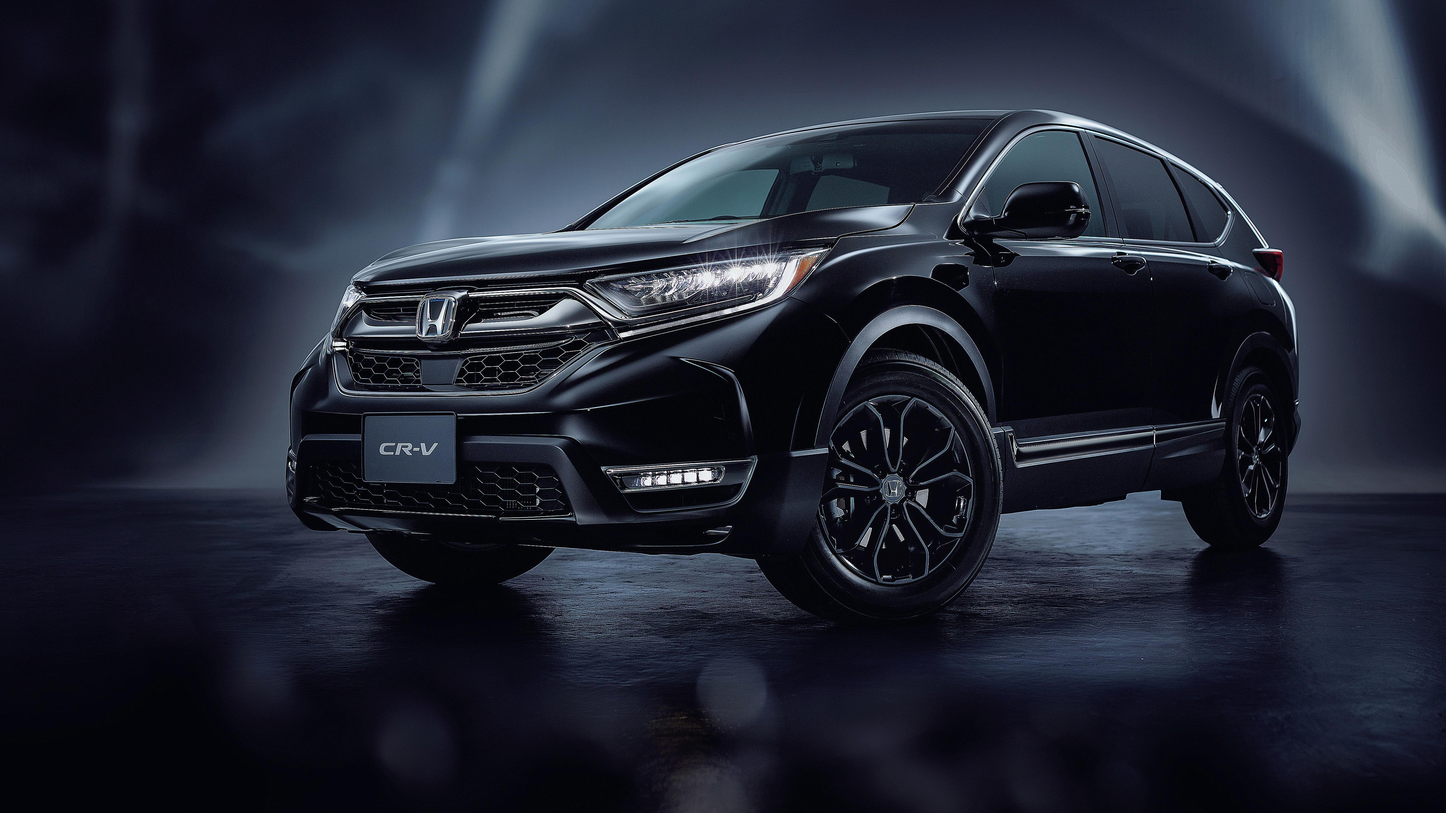Car hood: (349, 201, 929, 282)
Fender - -F-L-: (814, 202, 1003, 451)
Fender - -F-R-: (1215, 246, 1300, 441)
Front bumper: (281, 428, 835, 569)
Headlight - -L-: (563, 247, 822, 338)
Passenger-s door - -F-L-: (963, 98, 1158, 510)
Passenger-s door - -R-L-: (1083, 107, 1235, 515)
Rear light - -L-: (1243, 239, 1288, 283)
Side bumper - -L-: (993, 415, 1221, 537)
Side mirror - -L-: (954, 175, 1096, 253)
